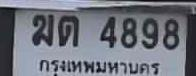4: (99, 15, 115, 47)
8: (162, 18, 178, 49), (120, 17, 136, 47)
9: (141, 17, 157, 48)
A06: (31, 13, 53, 45)
A21: (57, 14, 78, 46)
BKK: (38, 56, 163, 76)
